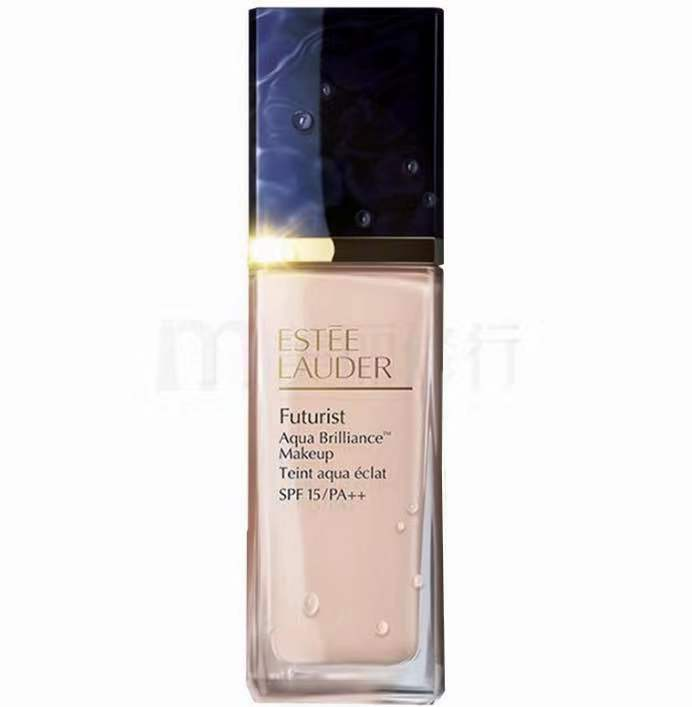cosmetic: (247, 6, 448, 703)
